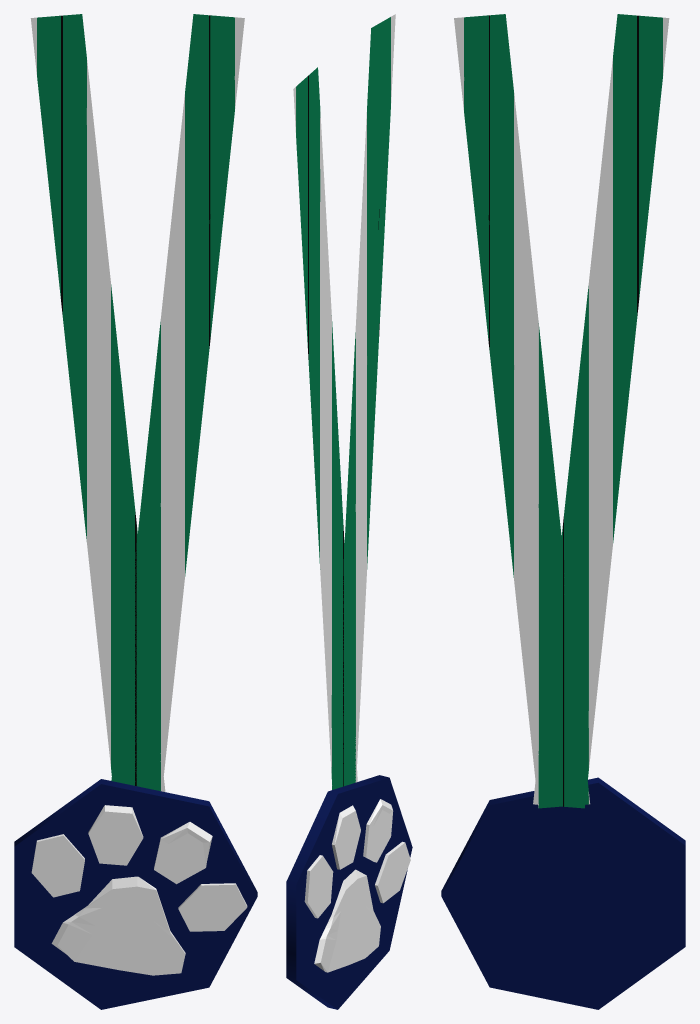
Rendered from medalSmallblue.FBX.
3 renders of one model, left to right at view 1: azimuth 90°, elevation 25°; view 2: azimuth 150°, elevation 25°; view 3: azimuth 270°, elevation 25°, orthographic. The views are drawn at different scales.
Visible parts, largest first — view 1: Box239; view 2: Box239; view 3: Box239.
Boxes of the visible parts, box(x1,y1,x2,y2) form: Box239: box(14, 14, 257, 1009); Box239: box(286, 14, 412, 1009); Box239: box(441, 14, 685, 1009).
Size of the model in its own units: 0.3769 by 23.47 by 5.22.
